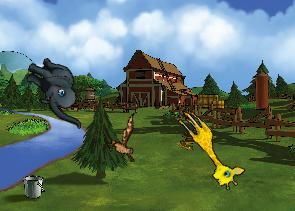eagle: (100, 113, 148, 168)
elephant: (14, 53, 98, 129)
giraffe: (167, 106, 249, 194)
